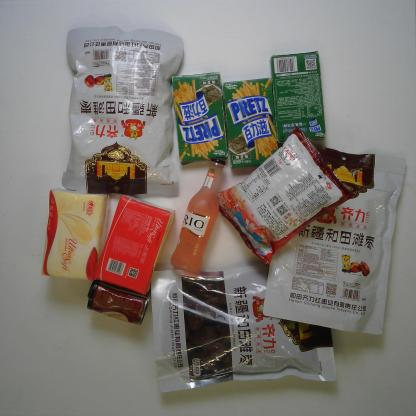Alcohol: (170, 154, 232, 274)
Canned Food: (84, 279, 146, 324)
Dessert: (166, 67, 232, 164), (268, 50, 334, 146), (219, 75, 282, 170)
Dried Food: (258, 142, 412, 340), (148, 259, 342, 395), (58, 20, 188, 200)
Puffed Food: (212, 127, 357, 266)
Tissue: (93, 190, 176, 297), (38, 185, 113, 280)
